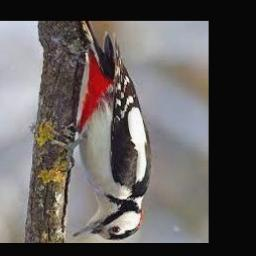Woodpecker: (57, 21, 152, 240)
